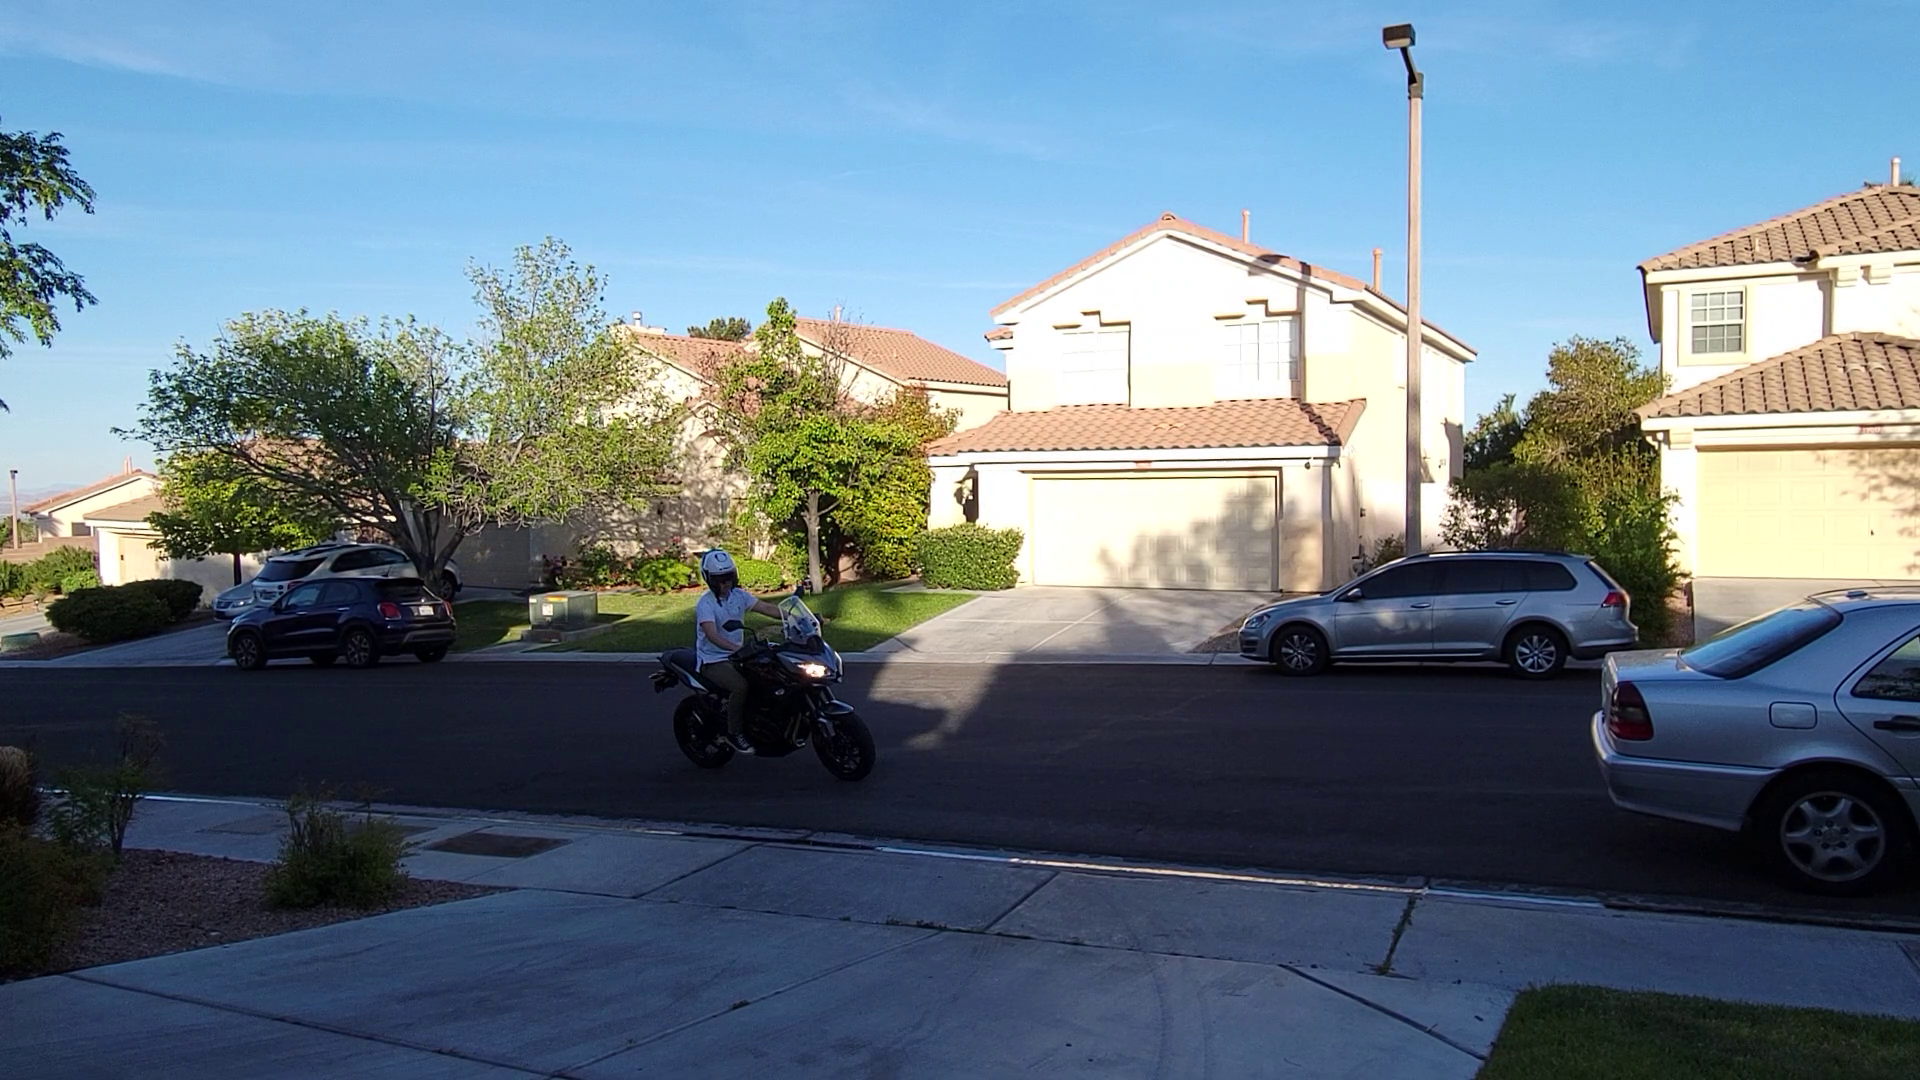my bike: (636, 543, 880, 785)
